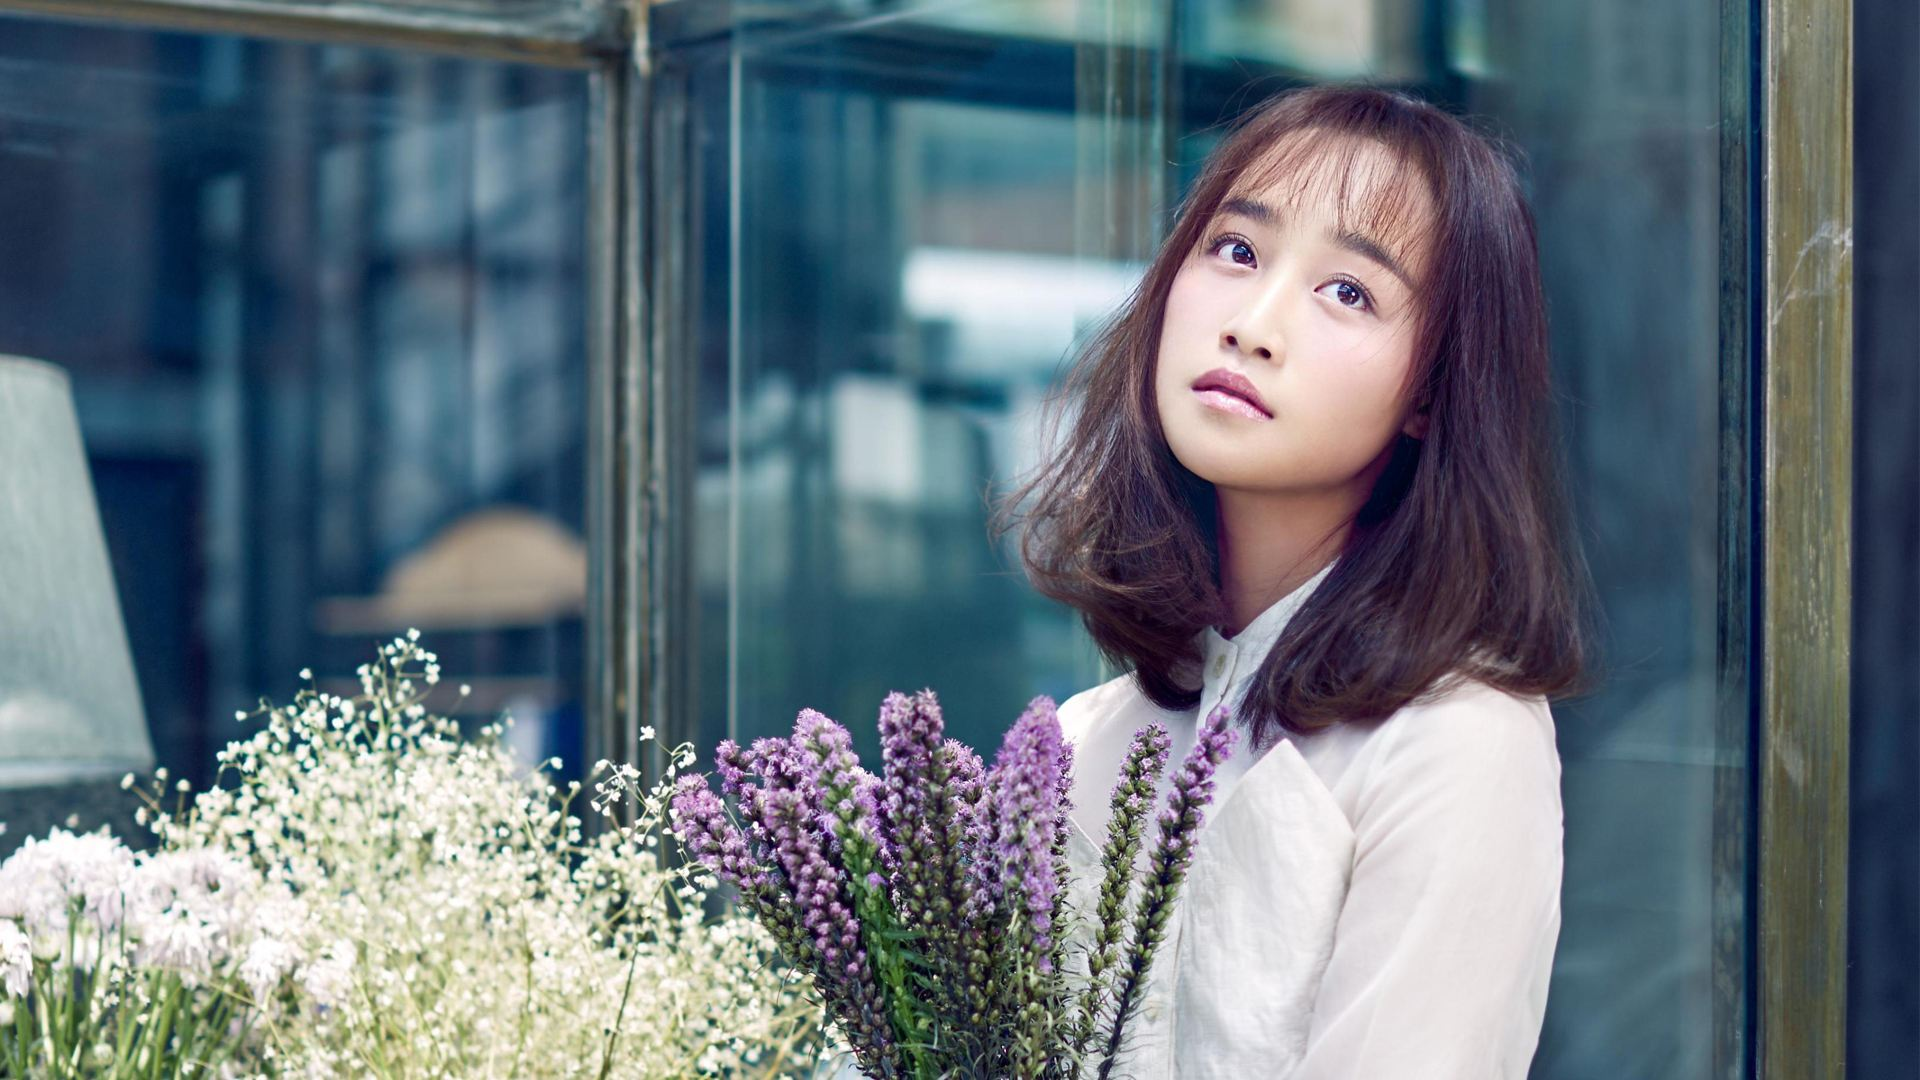person: (997, 20, 1908, 1080)
